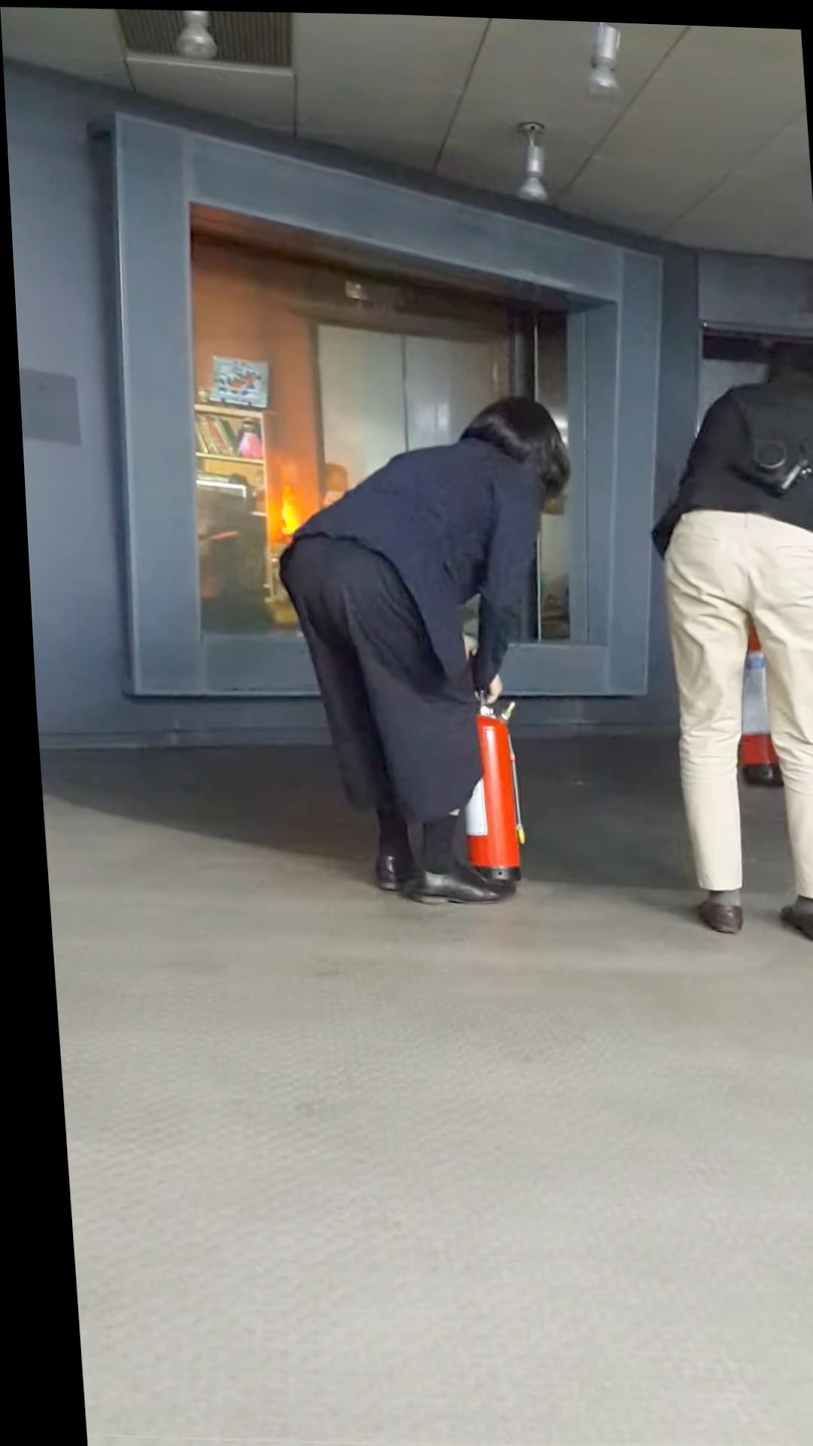FireExtinguisher: (441, 682, 543, 891), (715, 606, 799, 770)
